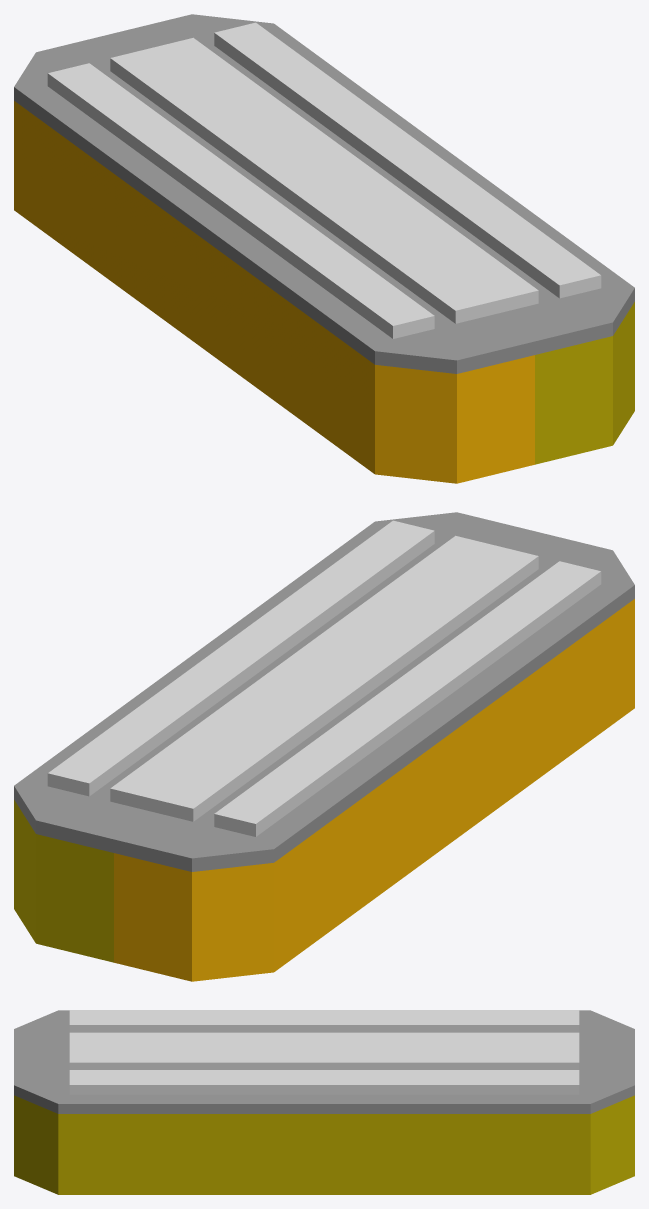
Rendered from mpe_maglock_1x1_offset.dae.
3 views of the same model, one above another, from view 1: azimuth 30°, elevation 25°; view 2: azimuth 150°, elevation 25°; view 3: azimuth 270°, elevation 25° (orthographic). The views are drawn at different scales.
Parts seen in each view (by area): view 1: maglock_1x1_offset; view 2: maglock_1x1_offset; view 3: maglock_1x1_offset.
Part boxes in pixels (x1,y1,x2,y2): maglock_1x1_offset: (14,14,634,483); maglock_1x1_offset: (14,512,634,981); maglock_1x1_offset: (14,1010,634,1194).
Bounding box in the file's own units: 0.1 × 0.2804 × 0.0501.
